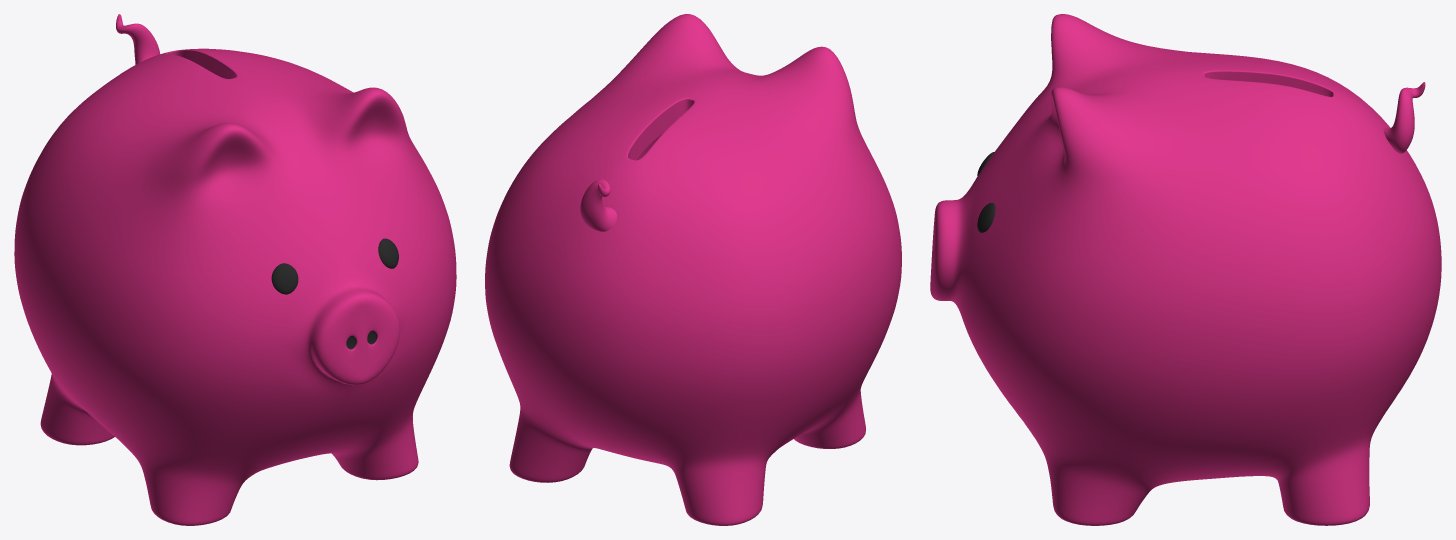
Rendered from piggy_fab.fbx.
3 renders of one model, left to right at view 1: azimuth 30°, elevation 25°; view 2: azimuth 150°, elevation 25°; view 3: azimuth 270°, elevation 25°, orthographic. The views are drawn at different scales.
Parts seen in each view (by area): view 1: Cube; view 2: Cube; view 3: Cube.
Boxes of the visible parts, left/top/right/bottom form: Cube: left=14, top=14, right=456, bottom=525; Cube: left=485, top=14, right=901, bottom=525; Cube: left=930, top=14, right=1441, bottom=525.
Bounding box in the file's own units: 273 × 284 × 320.
